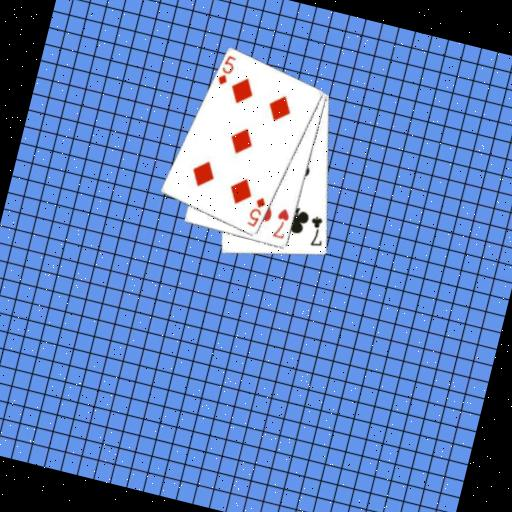5D: (244, 193, 269, 231), (213, 51, 238, 89)
7C: (303, 212, 331, 250)
7H: (269, 204, 293, 241)
